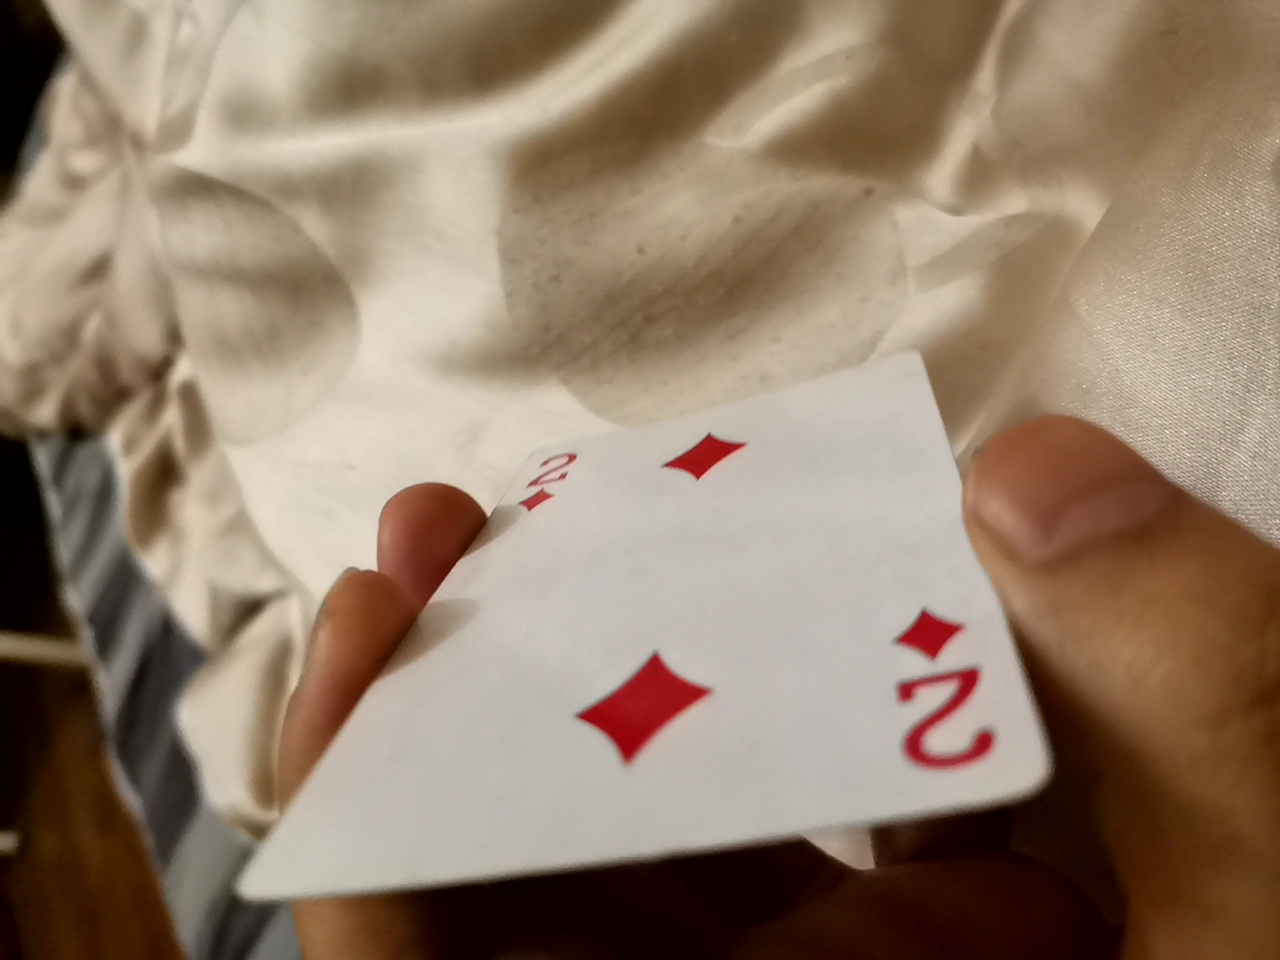fk 2: (205, 295, 1039, 956)
